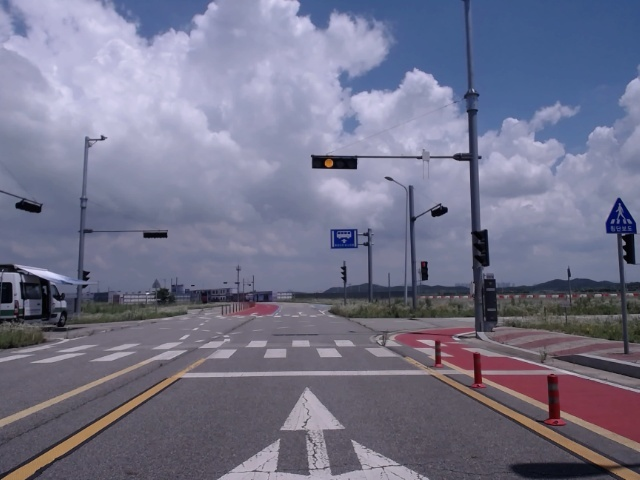orange_4: (308, 156, 358, 169)
